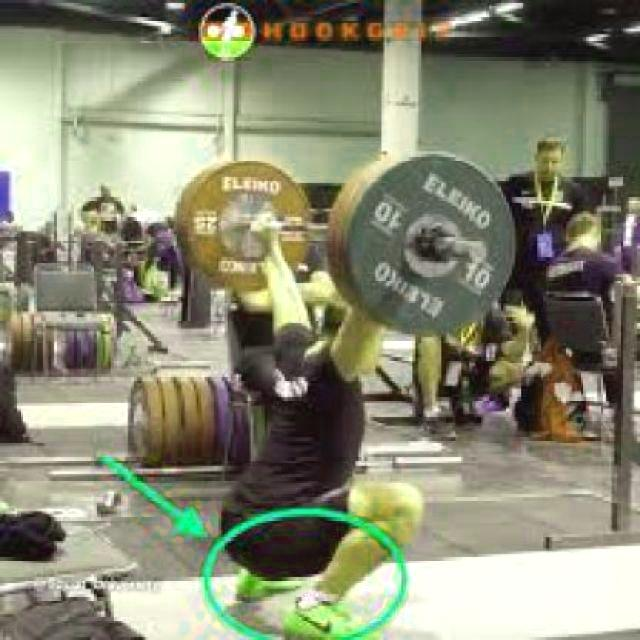barbell: (337, 150, 520, 340)
